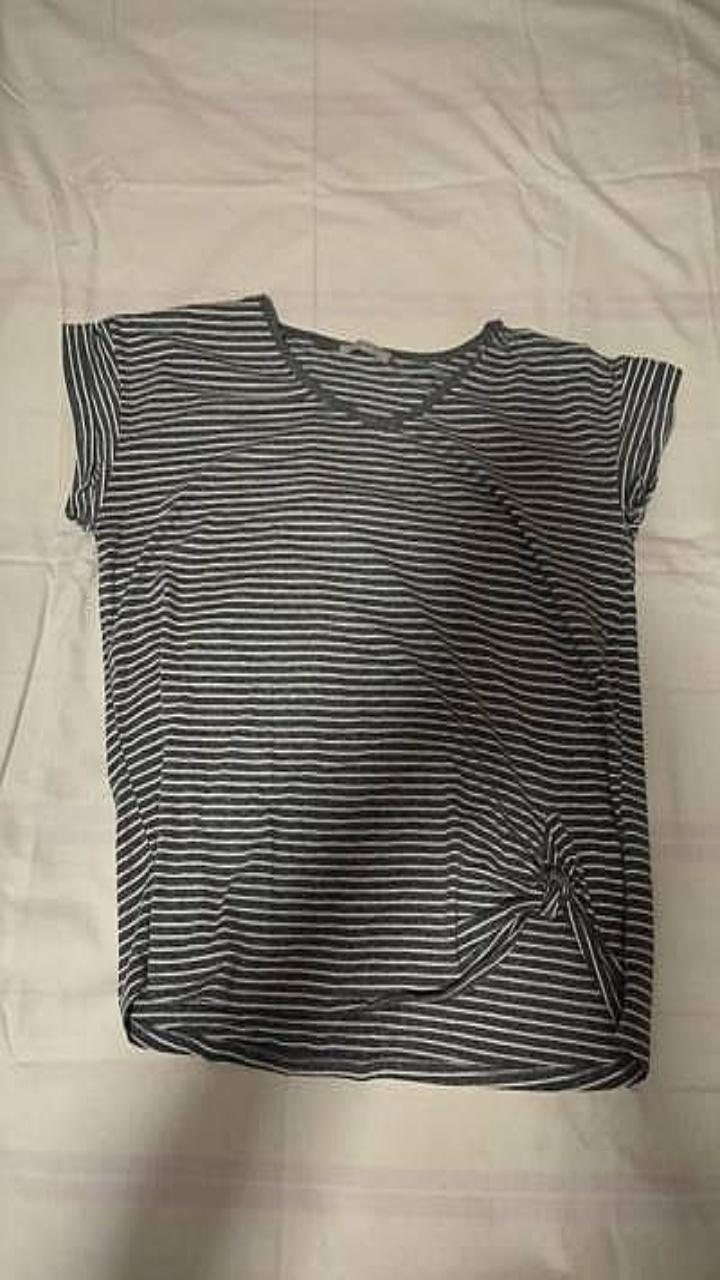T-Shirt: (62, 293, 681, 1089)
